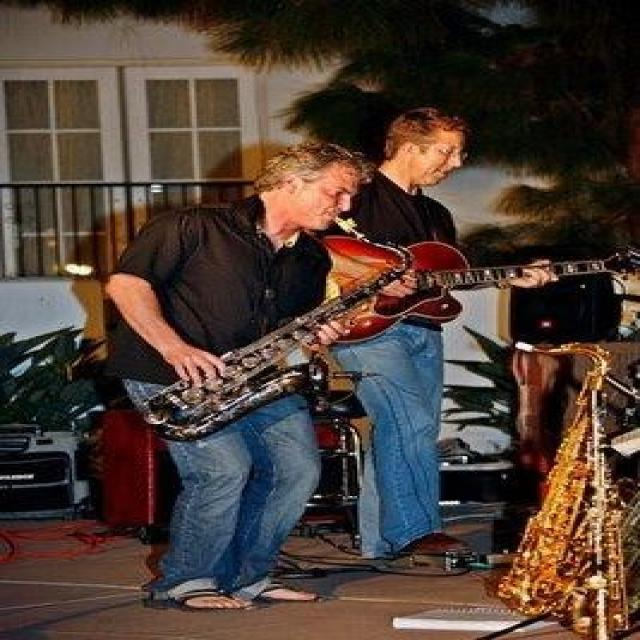guitar: (308, 238, 640, 342)
saxophone: (138, 235, 415, 442), (492, 341, 640, 632)
